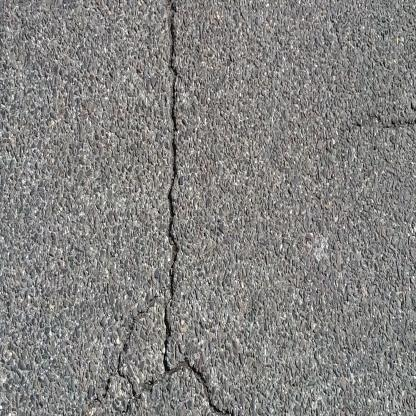Cracks: (123, 0, 180, 377), (188, 362, 416, 416), (347, 110, 416, 170)
